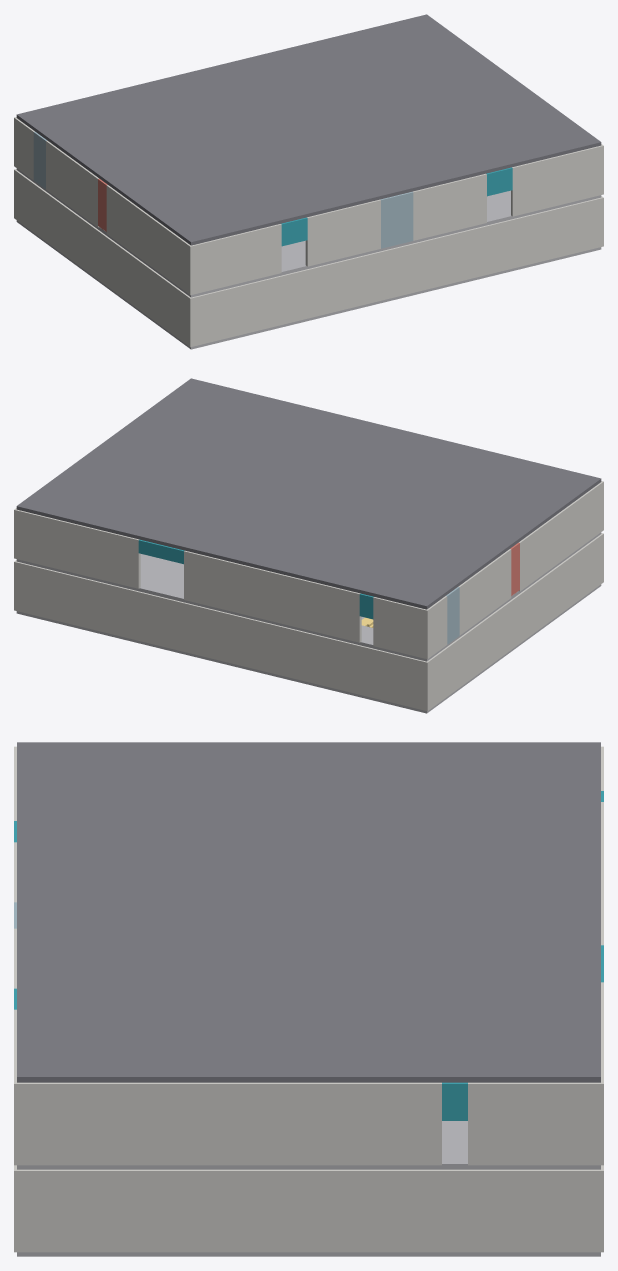
Rendered from bank_tower_a01.glb.
3 renders of one model, top to bottom at view 1: azimuth 30°, elevation 25°; view 2: azimuth 150°, elevation 25°; view 3: azimuth 270°, elevation 25°, orthographic. The views are drawn at different scales.
Visible parts, largest first — view 1: slab_1_t0_0, slab_1_t0_2, slab_1_t0_3, slab_1_t0_7, slab_1_t0_1, slab_1_t0_4, slab_1_t0_6, slab_1_t0_5, slab_1_t3_0, slab_1_t5_0, slab_1_t4_0, slab_1_t2_0 (+103 smaller); view 2: slab_1_t5_0, slab_1_t5_2, slab_1_t5_3, slab_1_t5_7, slab_1_t5_1, slab_1_t5_4, slab_1_t5_6, slab_1_t5_5, slab_1_t0_0, slab_1_t2_0, slab_1_t1_0, slab_1_t3_0 (+98 smaller); view 3: slab_1_t0_7, slab_1_t1_7, slab_1_t2_7, slab_1_t3_7, slab_1_t4_7, slab_1_t5_7, slab_1_t1_0, slab_1_t1_4, slab_1_t1_5, slab_1_t1_6, slab_1_t4_0, slab_1_t4_4 (+65 smaller).
Boxes of the visible parts, box(x1,y1,x2,y2) form: slab_1_t0_0: box(162, 208, 242, 245); slab_1_t0_2: box(265, 183, 344, 220); slab_1_t0_3: box(316, 171, 396, 207); slab_1_t0_7: box(521, 121, 601, 157); slab_1_t0_1: box(213, 196, 293, 232); slab_1_t0_4: box(368, 158, 447, 195); slab_1_t0_6: box(470, 133, 549, 170); slab_1_t0_5: box(419, 146, 498, 182); slab_1_t3_0: box(74, 144, 154, 181); slab_1_t5_0: box(16, 102, 96, 138); slab_1_t4_0: box(45, 123, 125, 159); slab_1_t2_0: box(104, 166, 183, 202); slab_1_t5_0: box(375, 572, 455, 609); slab_1_t5_2: box(273, 547, 352, 584); slab_1_t5_3: box(221, 535, 301, 571); slab_1_t5_7: box(16, 485, 96, 521); slab_1_t5_1: box(324, 560, 404, 596); slab_1_t5_4: box(170, 522, 249, 559); slab_1_t5_6: box(68, 497, 147, 534); slab_1_t5_5: box(119, 510, 198, 546); slab_1_t0_0: box(521, 466, 601, 502); slab_1_t2_0: box(463, 508, 543, 545); slab_1_t1_0: box(492, 487, 572, 523); slab_1_t3_0: box(434, 530, 513, 566); slab_1_t0_7: box(17, 1035, 114, 1082); slab_1_t1_7: box(114, 1035, 211, 1082); slab_1_t2_7: box(211, 1035, 308, 1082); slab_1_t3_7: box(309, 1035, 406, 1082); slab_1_t4_7: box(406, 1035, 503, 1082); slab_1_t5_7: box(503, 1035, 600, 1082); slab_1_t1_0: box(114, 742, 211, 784); slab_1_t1_4: box(114, 909, 211, 951); slab_1_t1_5: box(114, 951, 211, 993); slab_1_t1_6: box(114, 993, 211, 1035); slab_1_t4_0: box(406, 742, 503, 784); slab_1_t4_4: box(406, 909, 503, 951).
Size of what is drawn, in the model's own units: 38.3 by 9.5 by 28.3.
